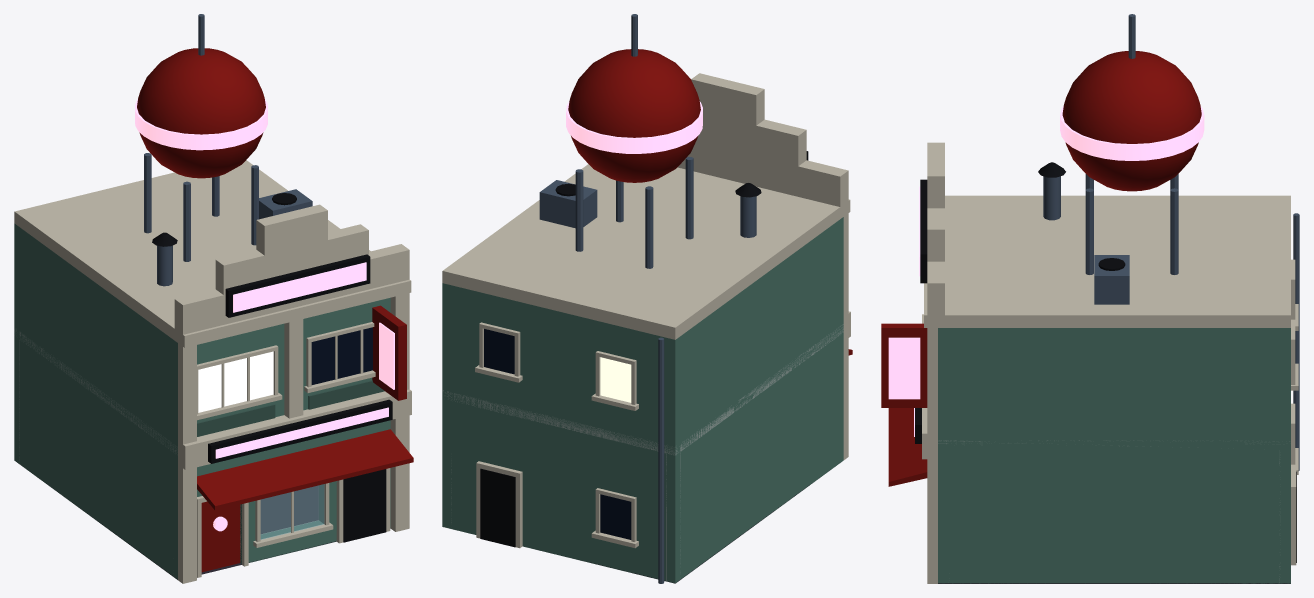
Rendered from row_tank.glb.
3 renders of one model, left to right at view 1: azimuth 30°, elevation 25°; view 2: azimuth 150°, elevation 25°; view 3: azimuth 270°, elevation 25°, orthographic. The views are drawn at different scales.
Visible parts, largest first — view 1: row_tank, door_shop_leaf; view 2: row_tank; view 3: row_tank.
Boxes of the visible parts, x1=… form: row_tank: x1=14, y1=14, x2=413, y2=583; door_shop_leaf: x1=201, y1=501, x2=240, y2=572; row_tank: x1=442, y1=14, x2=852, y2=583; row_tank: x1=881, y1=14, x2=1299, y2=583.
Size of the model in its own units: 8 by 15.9 by 11.84.
